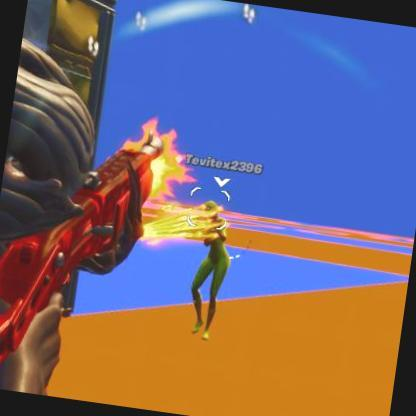person: (184, 192, 239, 322)
